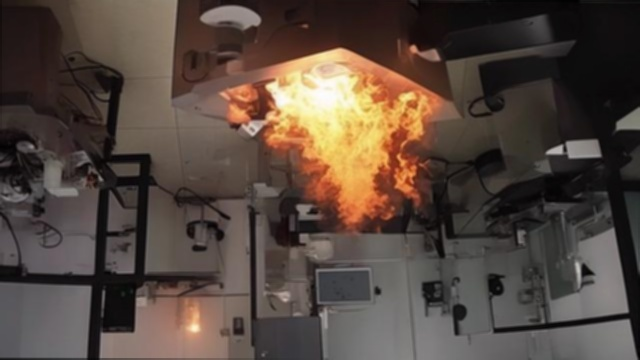fire: (233, 59, 448, 231)
